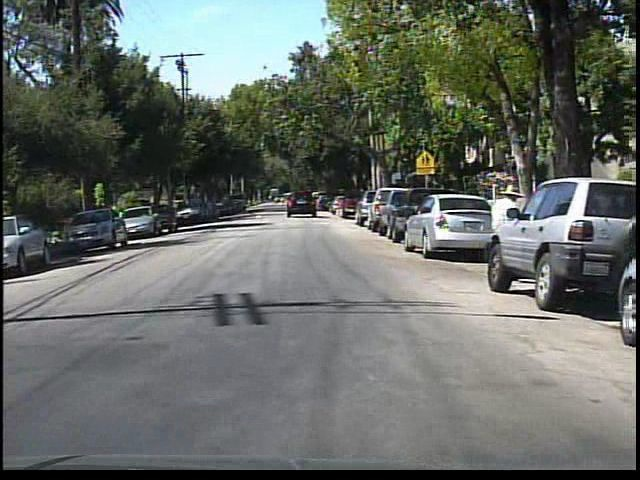person: (481, 178, 523, 290)
